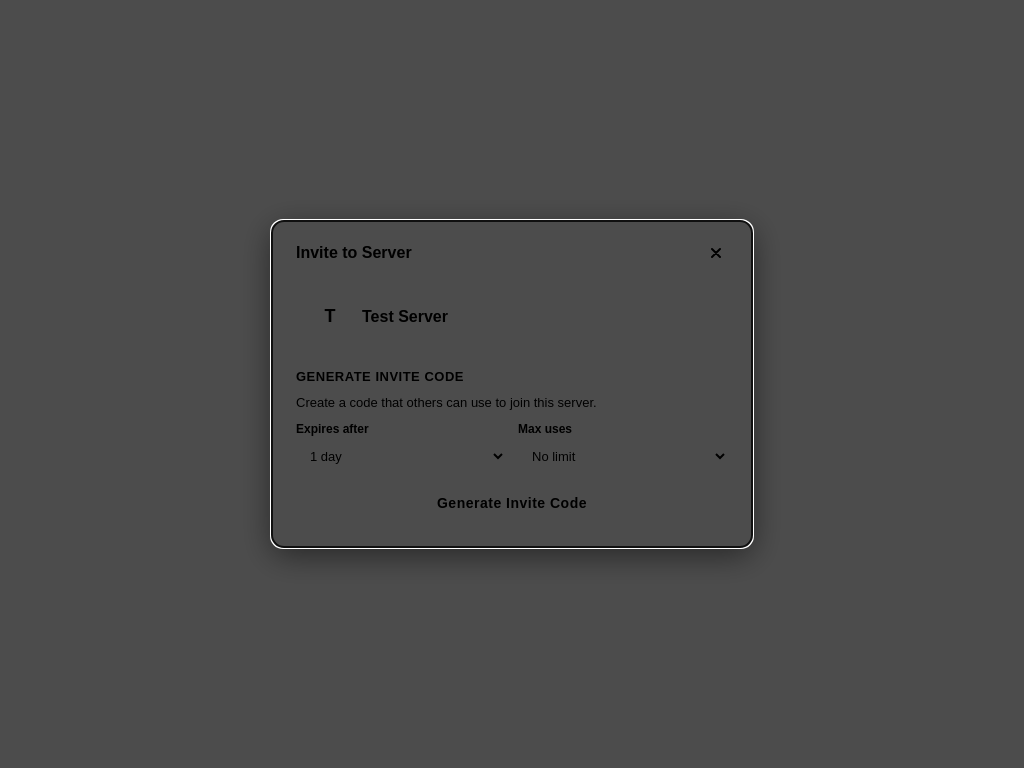
Test case: InviteToServerModal › shows generated code after successful creation
The width and height of the screenshot is (1024, 768).
Click the button with class "invite-generate-btn" at [512, 503], box top-left (296, 483), bottom-right (728, 523)
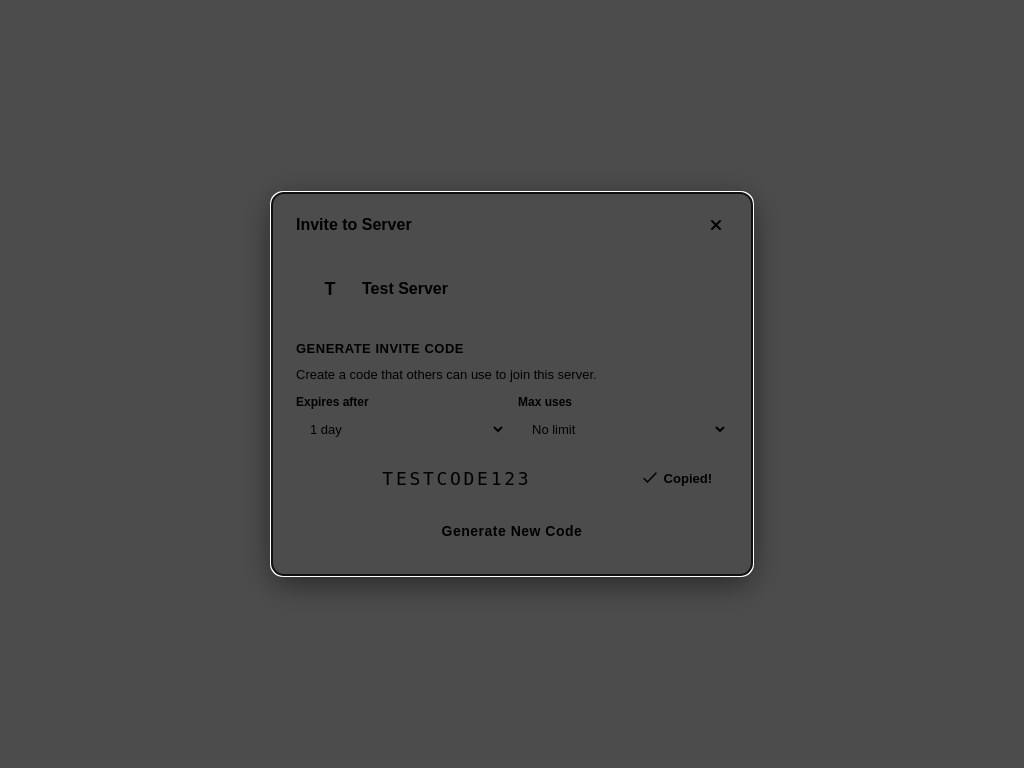
Expected: the field with class "invite-code-value" holds "TESTCODE123", top-left (296, 456), bottom-right (618, 501)
